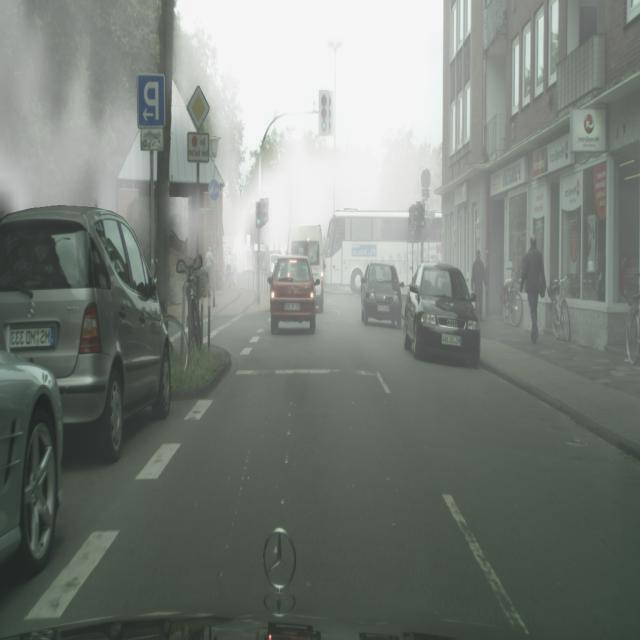bicycle: (323, 208, 442, 293)
car: (176, 255, 204, 366), (547, 275, 571, 341), (500, 275, 523, 328), (625, 289, 640, 365)
person: (516, 233, 547, 344), (471, 249, 488, 319)
train: (288, 222, 325, 313)
truck: (0, 206, 173, 462), (0, 348, 64, 571), (403, 261, 482, 367), (269, 256, 316, 334), (360, 262, 402, 328)
